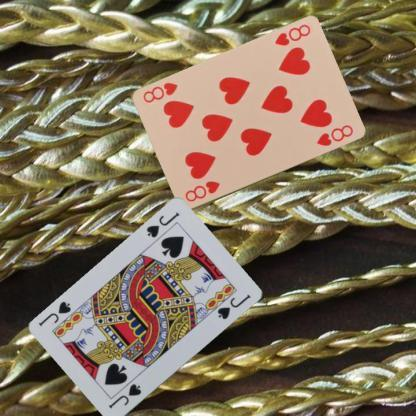8h: (182, 178, 222, 204), (272, 22, 312, 48)
Js: (144, 209, 181, 239), (106, 381, 142, 410)
